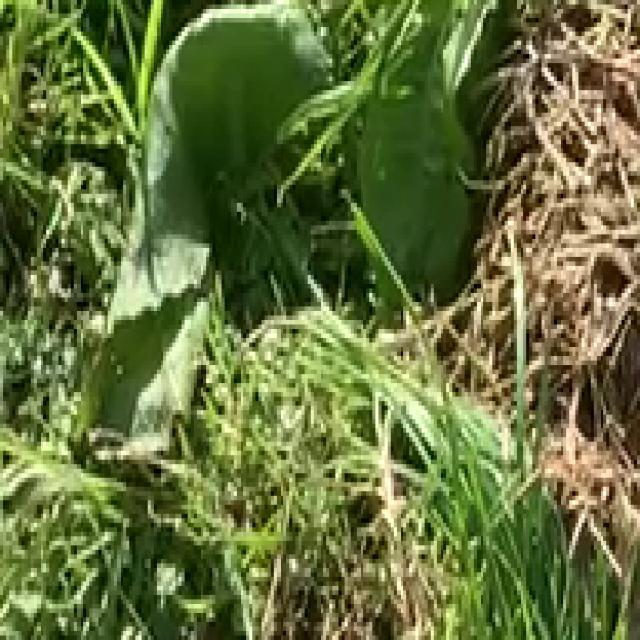organic waste: (16, 0, 544, 446)
